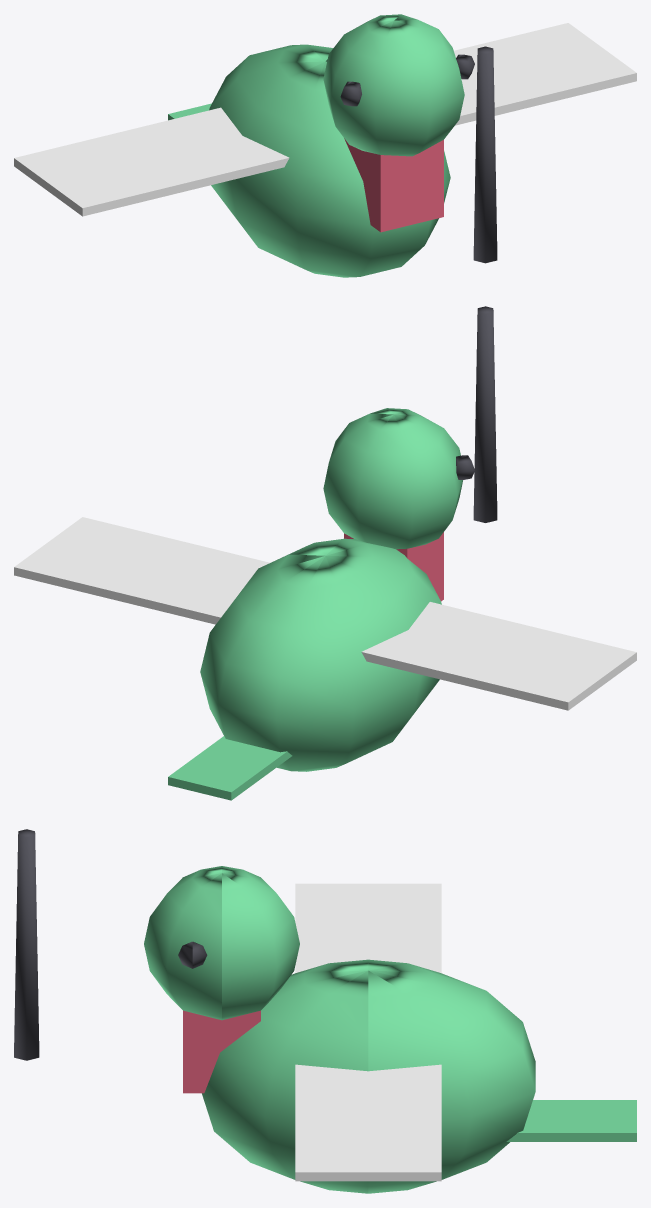
3 renders of one model, top to bottom at view 1: azimuth 30°, elevation 25°; view 2: azimuth 150°, elevation 25°; view 3: azimuth 270°, elevation 25°, orthographic. The views are drawn at different scales.
Visible parts, largest first — view 1: Generated3DMesh; view 2: Generated3DMesh; view 3: Generated3DMesh.
Part boxes in pixels (x1,y1,x2,y2): Generated3DMesh: (14, 14, 636, 277); Generated3DMesh: (14, 306, 636, 800); Generated3DMesh: (14, 829, 636, 1193).
Bounding box in the file's own units: 0.7 × 0.395 × 0.638.
